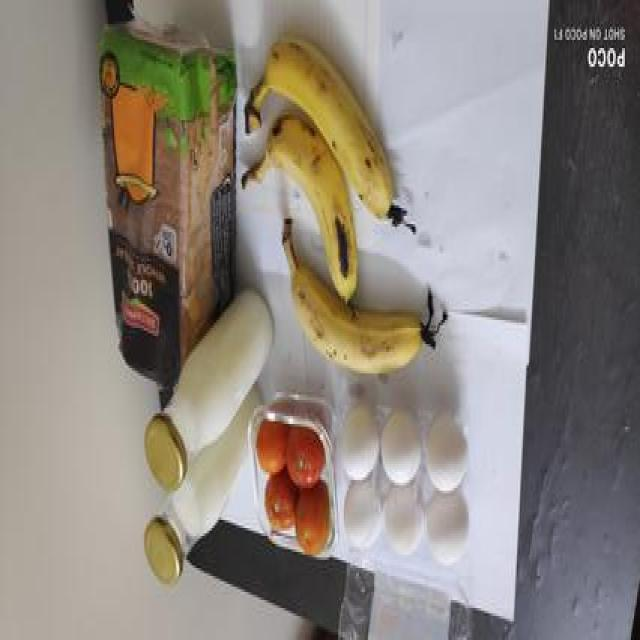Fresh_tomato: (252, 420, 334, 554)
